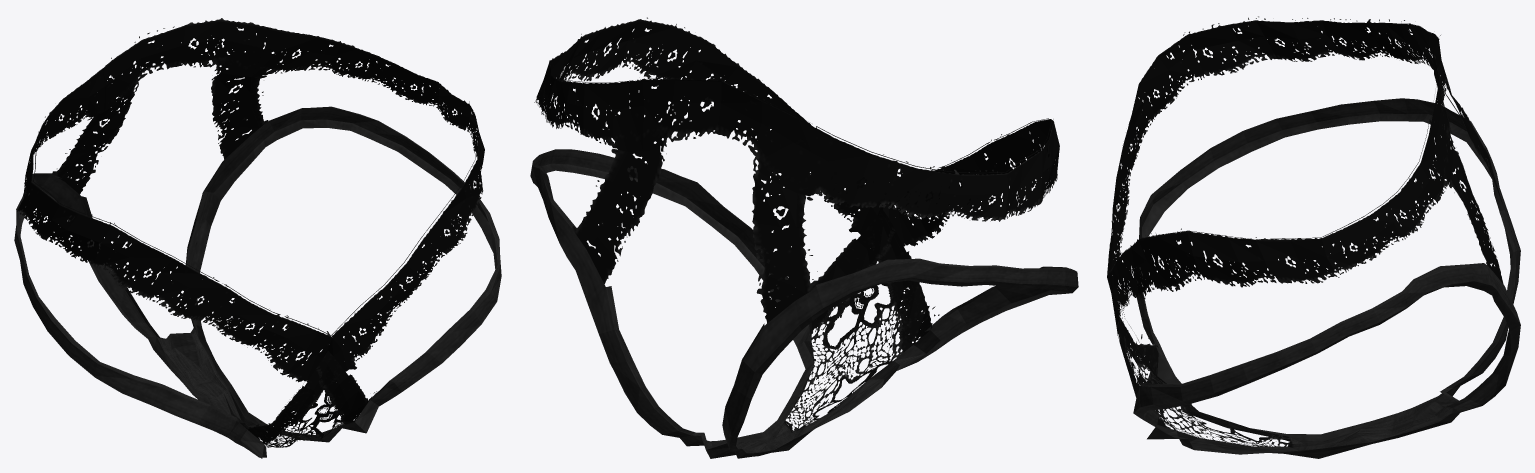
File: mhw_punkduck_strappy_lace_thong.glb
3 renders of one model, left to right at view 1: azimuth 30°, elevation 25°; view 2: azimuth 150°, elevation 25°; view 3: azimuth 270°, elevation 25°, orthographic. The views are drawn at different scales.
Visible parts, largest first — view 1: mhw_punkduck_strappy_lace_thong; view 2: mhw_punkduck_strappy_lace_thong; view 3: mhw_punkduck_strappy_lace_thong.
Part boxes in pixels (x1,y1,x2,y2): mhw_punkduck_strappy_lace_thong: (14,18,501,458); mhw_punkduck_strappy_lace_thong: (530,17,1078,458); mhw_punkduck_strappy_lace_thong: (1107,16,1520,458).
Bounding box in the file's own units: 0.3289 × 0.263 × 0.2422.
Materials: 1 (1 with a texture image).
